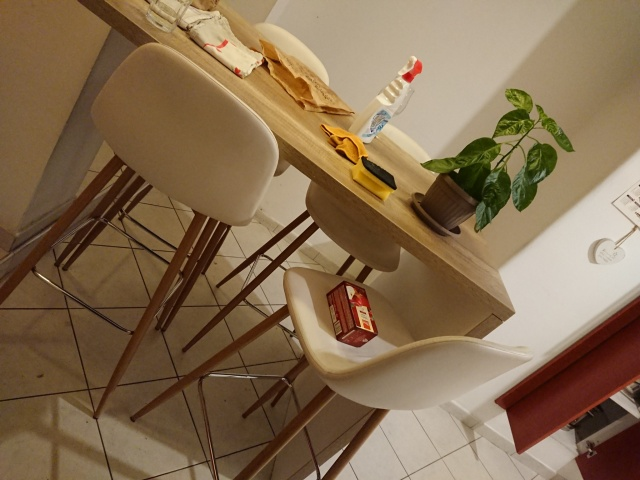Franck Apple Cinnamon Tea 60g: (323, 278, 381, 350)
